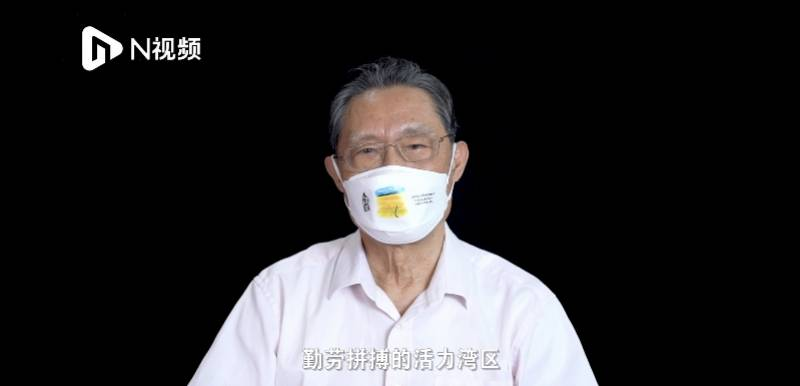mask: (332, 95, 458, 245)
